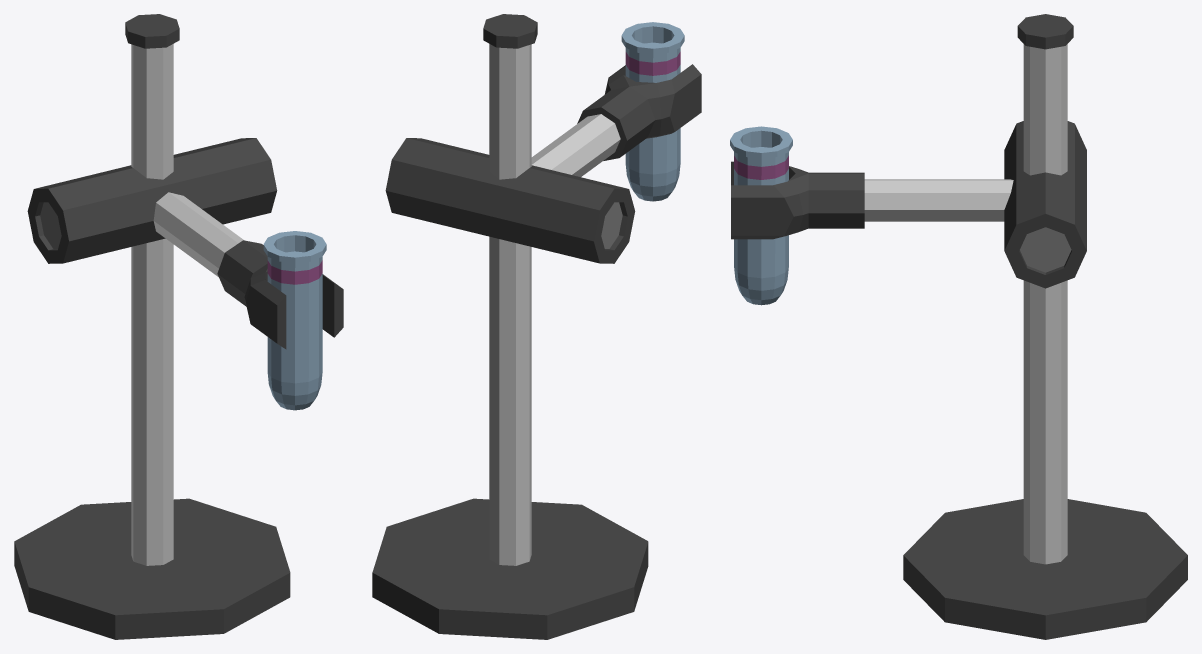
File: Int_ScienceTubeHolder02.fbx
3 renders of one model, left to right at view 1: azimuth 30°, elevation 25°; view 2: azimuth 150°, elevation 25°; view 3: azimuth 270°, elevation 25°, orthographic.
Visible parts, largest first — view 1: Int_ScienceTubeHolder02, Int_ScienceTube01; view 2: Int_ScienceTubeHolder02, Int_ScienceTube01; view 3: Int_ScienceTubeHolder02, Int_ScienceTube01.
Boxes of the visible parts, box(x1,y1,x2,y2) form: Int_ScienceTubeHolder02: box(14, 14, 343, 639); Int_ScienceTube01: box(263, 231, 326, 410); Int_ScienceTubeHolder02: box(372, 14, 701, 639); Int_ScienceTube01: box(621, 22, 684, 201); Int_ScienceTubeHolder02: box(731, 14, 1187, 639); Int_ScienceTube01: box(730, 126, 792, 305).
Size of what is drawn, in the model's own units: 34.16 by 54.96 by 73.36.
